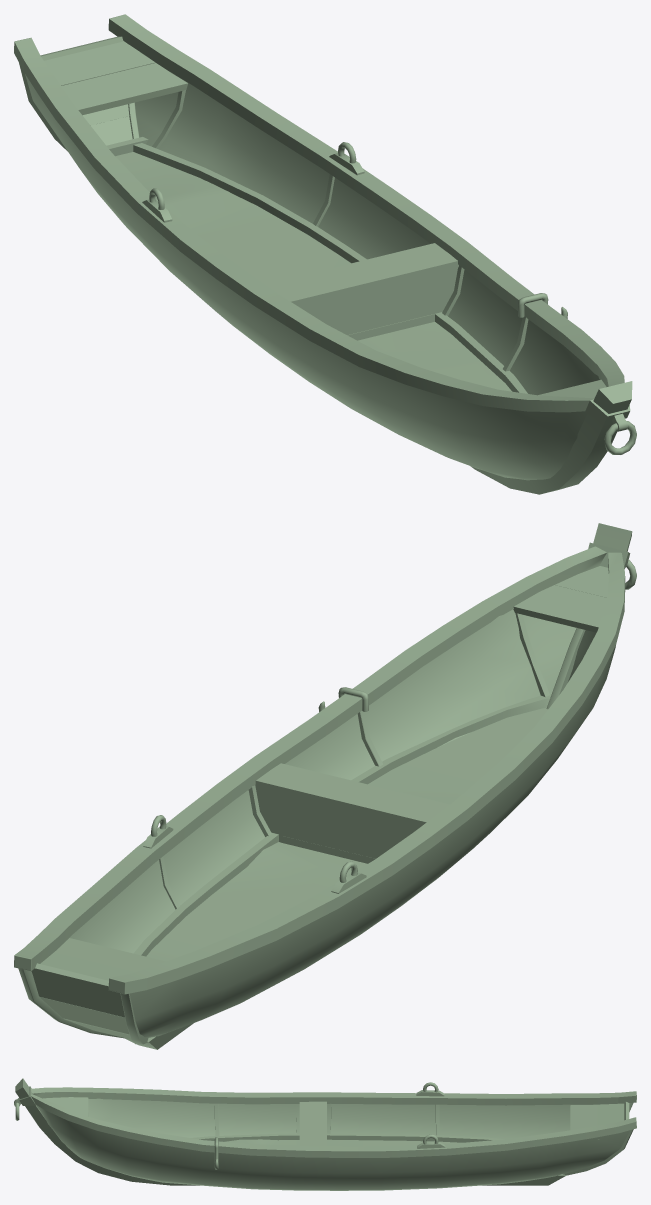
The model's file is Wooden_Boat.FBX.
3 views of the same model, one above another, from view 1: azimuth 30°, elevation 25°; view 2: azimuth 150°, elevation 25°; view 3: azimuth 270°, elevation 25° (orthographic). The views are drawn at different scales.
Visible parts, largest first — view 1: Geometry_Wooden_Boat_A_LOD00; view 2: Geometry_Wooden_Boat_A_LOD00; view 3: Geometry_Wooden_Boat_A_LOD00.
Part boxes in pixels (box(x1,y1,x2,y2)): Geometry_Wooden_Boat_A_LOD00: box(14, 14, 636, 494); Geometry_Wooden_Boat_A_LOD00: box(14, 523, 636, 1049); Geometry_Wooden_Boat_A_LOD00: box(14, 1078, 636, 1190).
Size of what is drawn, in the model's own units: 110 by 81.18 by 457.
